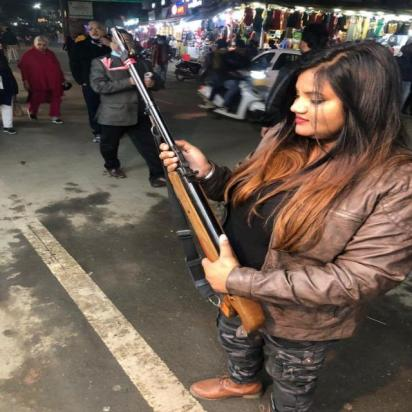Gun: (108, 25, 270, 337)
